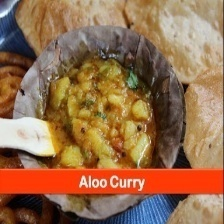sabzi: (32, 52, 165, 170)
